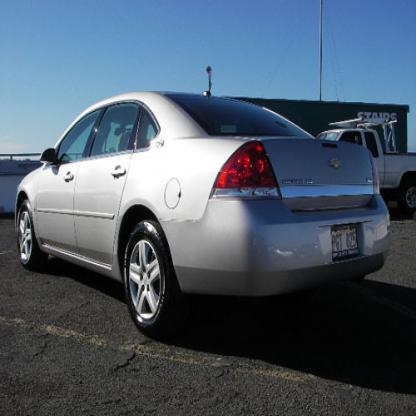Vehicle: (13, 66, 393, 338)
